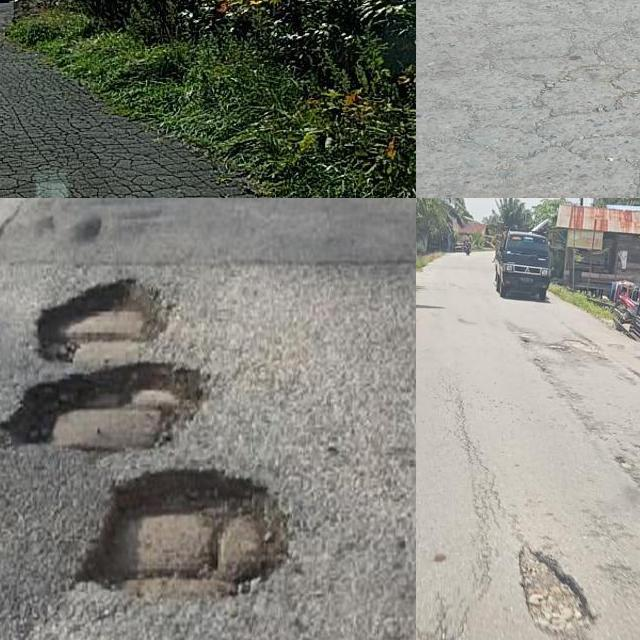Lubang: (90, 466, 288, 596), (1, 364, 214, 455), (28, 281, 174, 369), (511, 552, 587, 632)
Retak Buaya: (0, 32, 261, 198), (462, 42, 640, 198)
